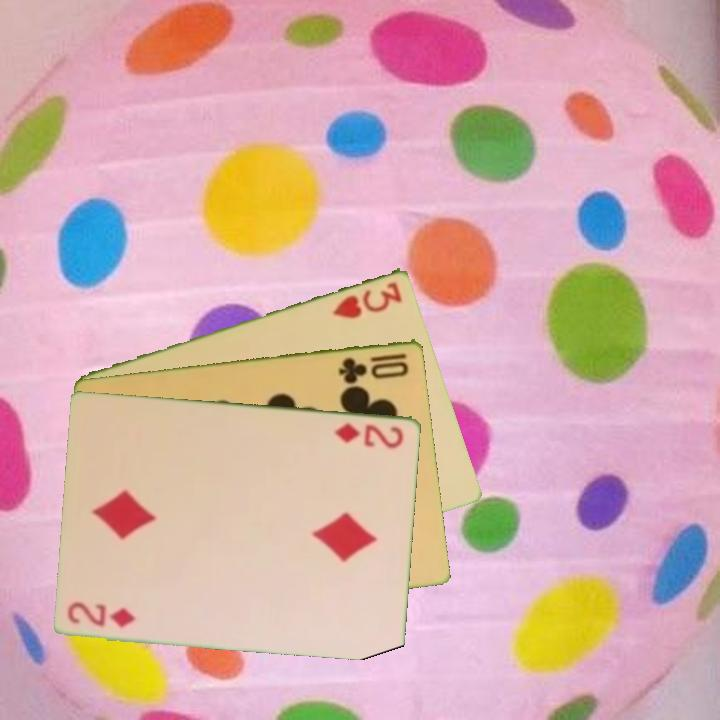10c: (335, 349, 412, 385)
2d: (332, 419, 407, 451), (64, 599, 139, 630)
3h: (329, 278, 405, 321)
